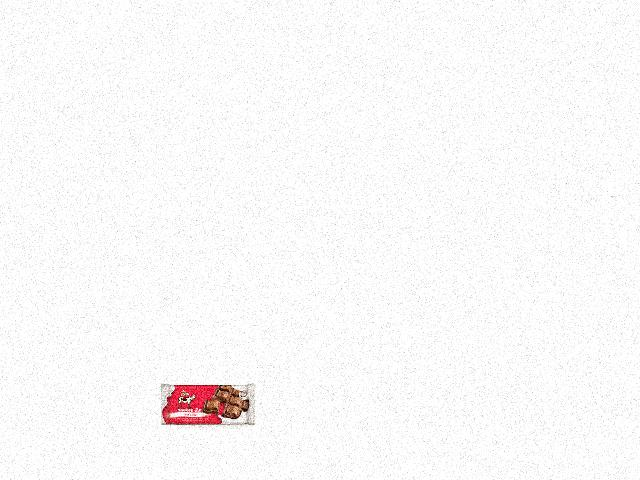chocolate: (145, 389, 256, 447)
